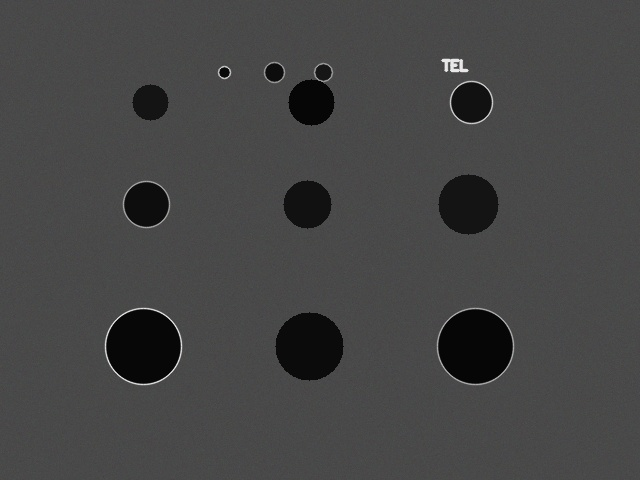hole: (105, 308, 181, 384), (437, 308, 513, 384), (275, 312, 343, 380), (438, 174, 498, 234), (283, 180, 331, 228), (288, 79, 334, 125), (123, 181, 169, 227), (450, 81, 492, 123), (132, 84, 168, 120), (264, 62, 284, 82), (314, 63, 332, 81), (218, 66, 230, 78)
